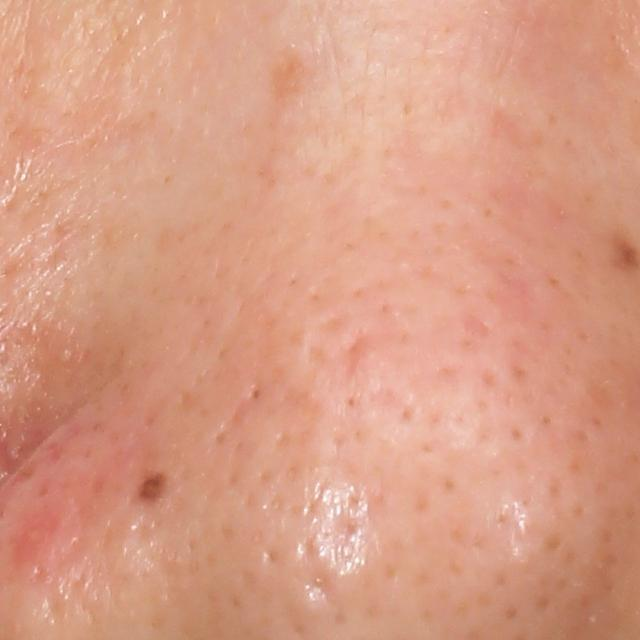atrophic_scar: (301, 568, 336, 608)
nevus: (137, 468, 171, 503)
